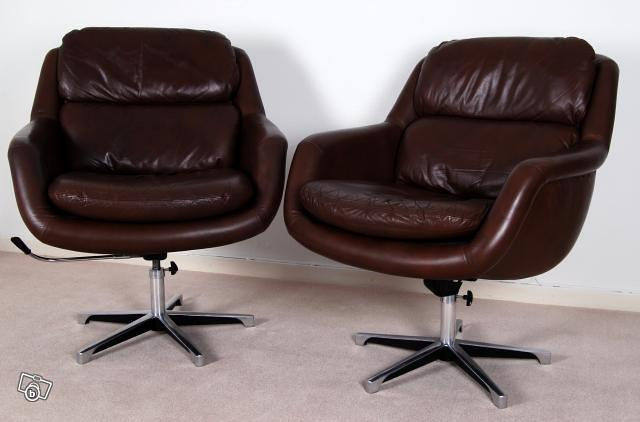chair: (284, 36, 620, 410), (8, 26, 289, 368)
